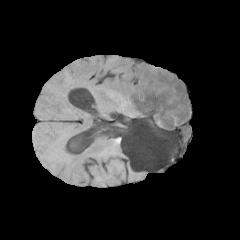glioma: (103, 63, 190, 153)
